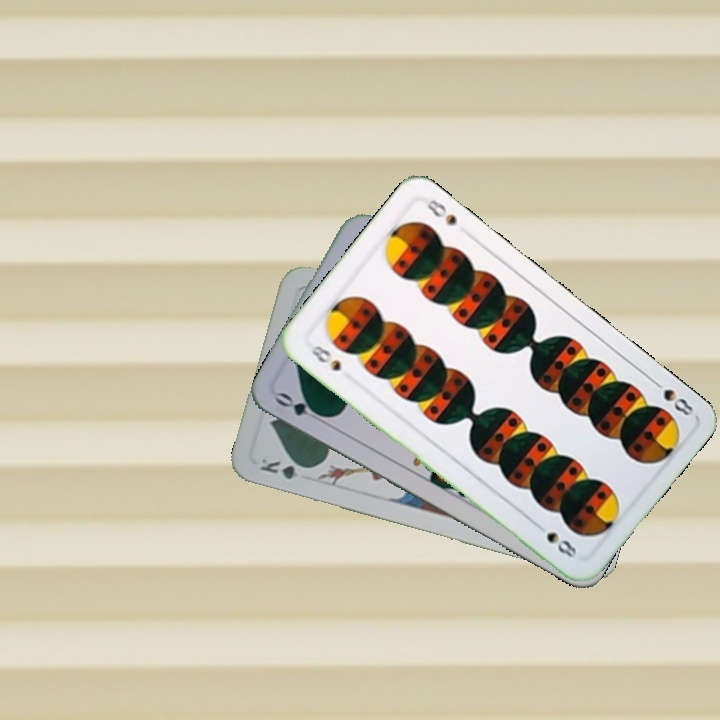GK: (256, 454, 314, 482)
GO: (271, 388, 329, 426)
S8: (647, 374, 696, 419), (306, 339, 344, 374)
